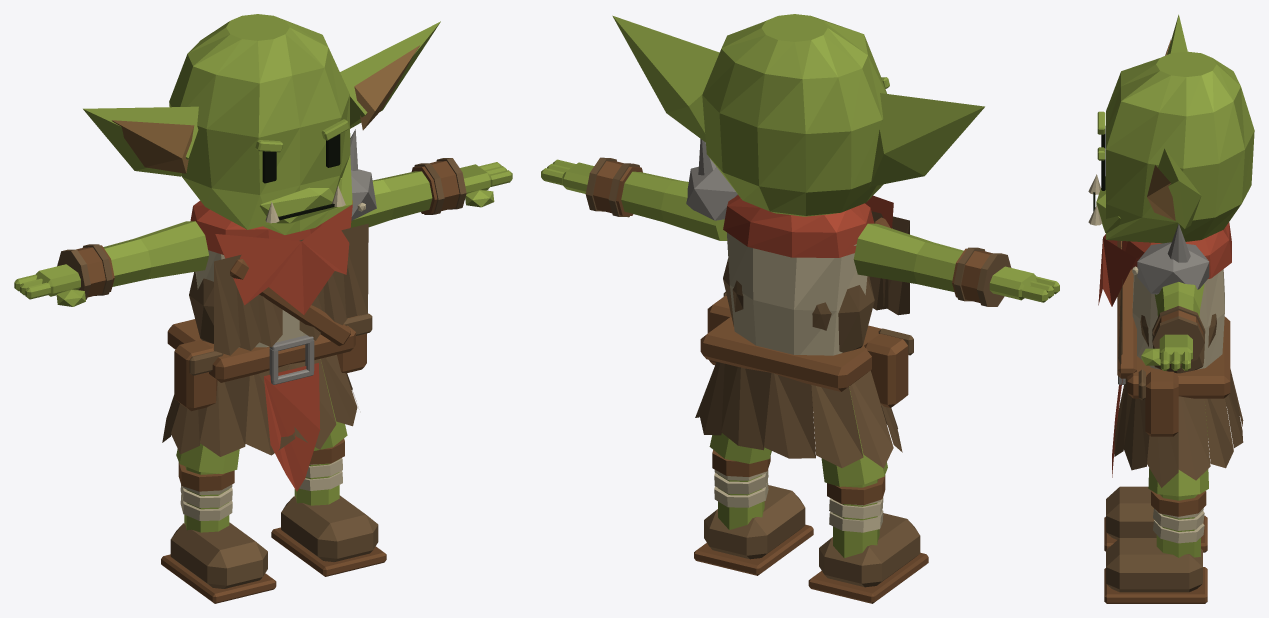
Rendered from goblin.glb.
3 views of the same model, side by side, from view 1: azimuth 30°, elevation 25°; view 2: azimuth 150°, elevation 25°; view 3: azimuth 270°, elevation 25° (orthographic). The views are drawn at different scales.
Visible parts, largest first — view 1: Body, Lower leg, Lower leg.001, Forearm, Forearm.001, Upper arm, Green thigh, Upper arm.001; view 2: Body, Lower leg, Lower leg.001, Forearm, Forearm.001, Upper arm, Upper arm.001, Green thigh, Green thigh.001; view 3: Body, Lower leg.001, Forearm.001, Lower leg, Green thigh.001, Upper arm.001.
Part boxes in pixels (bbox=[...]): Body: bbox=[83, 14, 440, 491]; Lower leg: bbox=[161, 462, 276, 603]; Lower leg.001: bbox=[271, 438, 386, 576]; Forearm: bbox=[14, 239, 151, 306]; Forearm.001: bbox=[376, 158, 512, 219]; Upper arm: bbox=[134, 221, 209, 279]; Green thigh: bbox=[176, 443, 239, 473]; Upper arm.001: bbox=[350, 179, 394, 227]; Body: bbox=[612, 14, 984, 468]; Lower leg: bbox=[808, 475, 928, 603]; Lower leg.001: bbox=[694, 450, 813, 575]; Forearm: bbox=[913, 242, 1059, 306]; Forearm.001: bbox=[541, 157, 679, 222]; Upper arm: bbox=[853, 223, 932, 283]; Upper arm.001: bbox=[661, 180, 727, 240]; Green thigh: bbox=[821, 386, 887, 486]; Green thigh.001: bbox=[709, 433, 771, 463]; Body: bbox=[1088, 14, 1254, 487]; Lower leg.001: bbox=[1104, 491, 1207, 603]; Forearm.001: bbox=[1141, 291, 1204, 370]; Lower leg: bbox=[1104, 486, 1207, 552]; Green thigh.001: bbox=[1148, 405, 1208, 496]; Upper arm.001: bbox=[1154, 282, 1204, 309].
Bounding box in the file's own units: 1.76 × 1.82 × 0.5479.
